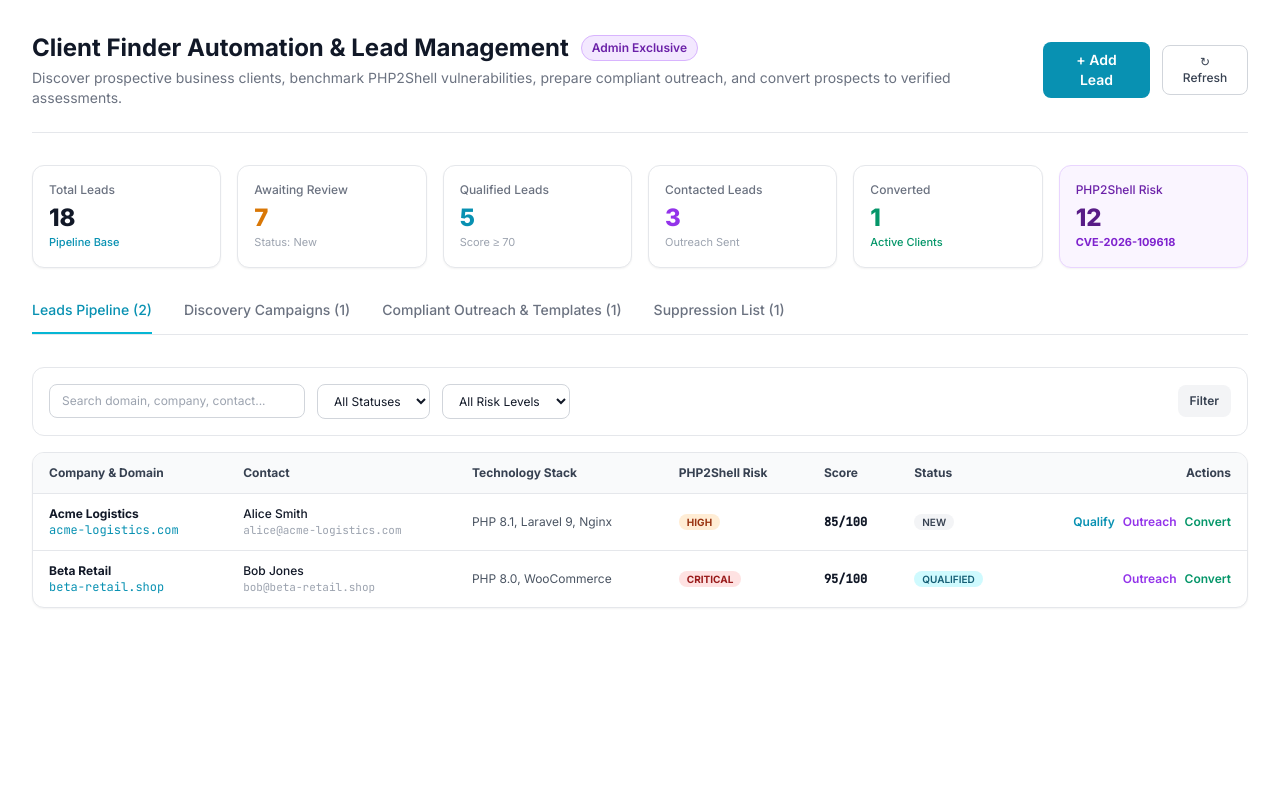
AdminClientFinderPage Component › converts an eligible lead into an active website target assessment
Expected: the text "Acme Logistics" is shown, [49,506,139,520]
Click the button "Convert" in the row of "Acme Logistics": [1208, 522] box [1185,514,1231,530]
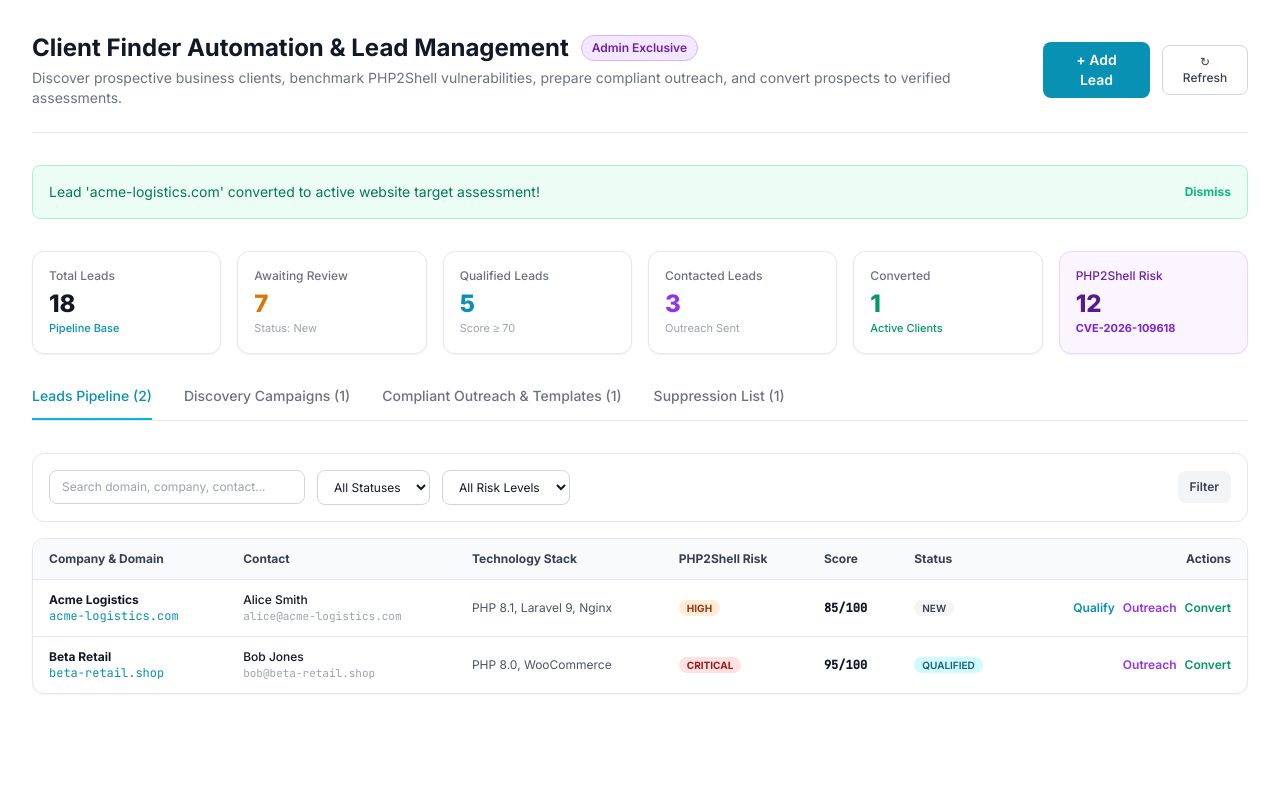
Expected: the text "converted to active website target assessment" is shown, [49,183,540,200]
